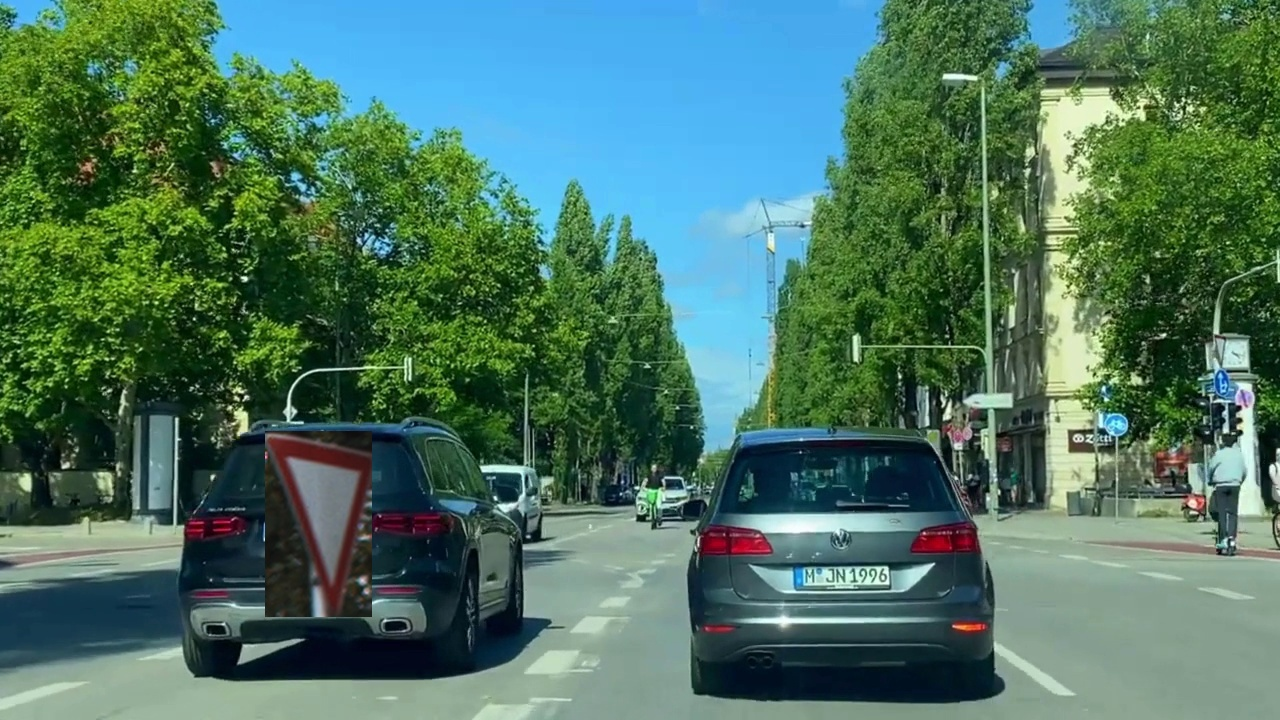Yield: (265, 431, 372, 617)
